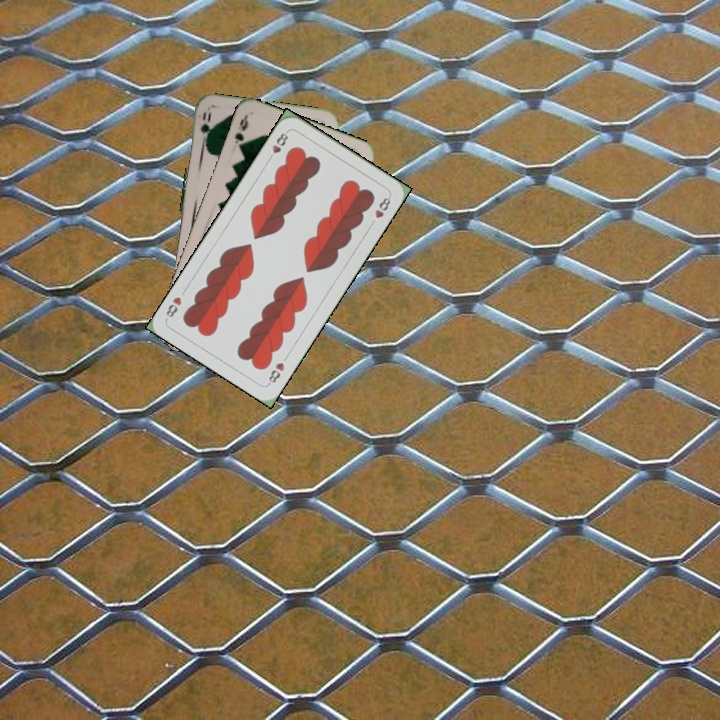G9: (230, 111, 251, 153)
GO: (196, 108, 214, 148)
H8: (264, 127, 291, 164), (264, 358, 287, 387)
